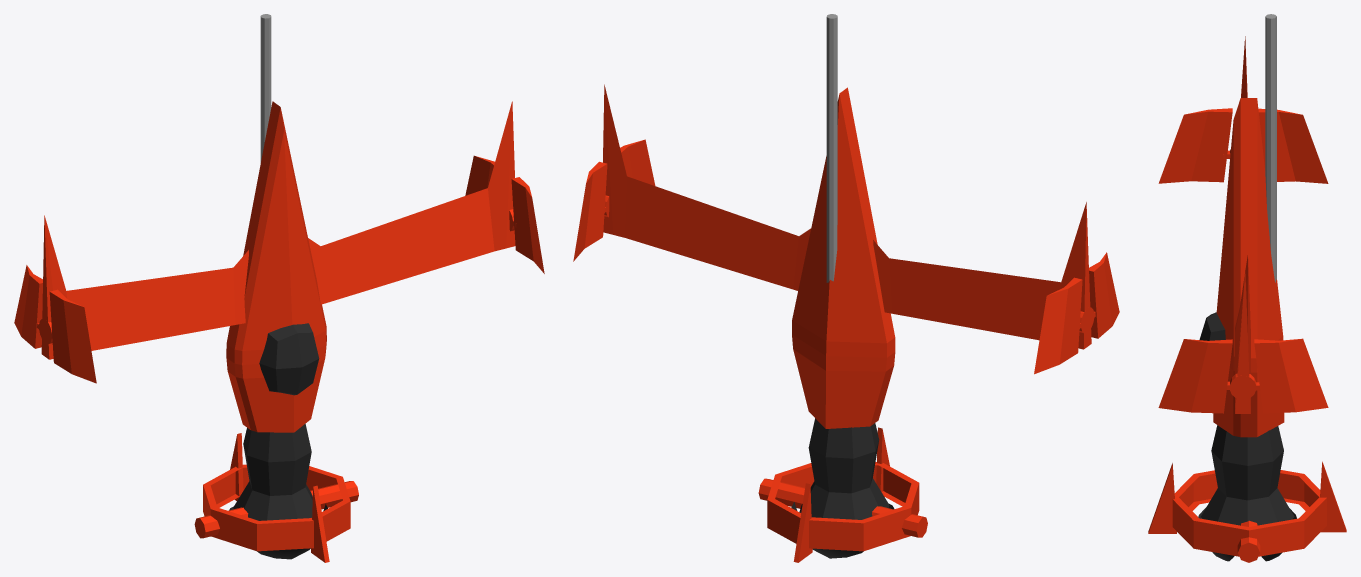
The model's file is spaceship2.fbx.
The picture shows the model from 3 angles, left to right: view 1: azimuth 30°, elevation 25°; view 2: azimuth 150°, elevation 25°; view 3: azimuth 270°, elevation 25°; orthographic projection. The views are drawn at different scales.
Parts seen in each view (by area): view 1: Cylinder.010, Cylinder.002, Cylinder.003; view 2: Cylinder.010, Cylinder.002, Cylinder.003; view 3: Cylinder.010, Cylinder.002, Cylinder.003.
Part boxes in pixels (x1=…): Cylinder.010: x1=14, y1=101, x2=544, y2=432; Cylinder.002: x1=194, y1=423, x2=358, y2=562; Cylinder.003: x1=260, y1=14, x2=271, y2=162; Cylinder.010: x1=573, y1=84, x2=1119, y2=428; Cylinder.002: x1=758, y1=418, x2=927, y2=562; Cylinder.003: x1=826, y1=14, x2=837, y2=282; Cylinder.010: x1=1158, y1=36, x2=1328, y2=437; Cylinder.002: x1=1148, y1=425, x2=1346, y2=562; Cylinder.003: x1=1265, y1=14, x2=1276, y2=282.
Bounding box in the file's own units: 468 × 501 × 167.
